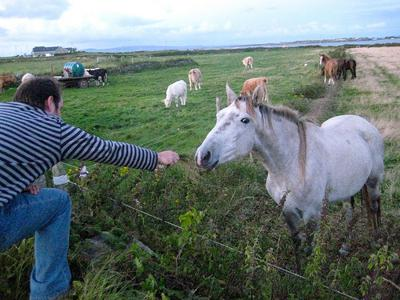person: (2, 71, 183, 300)
